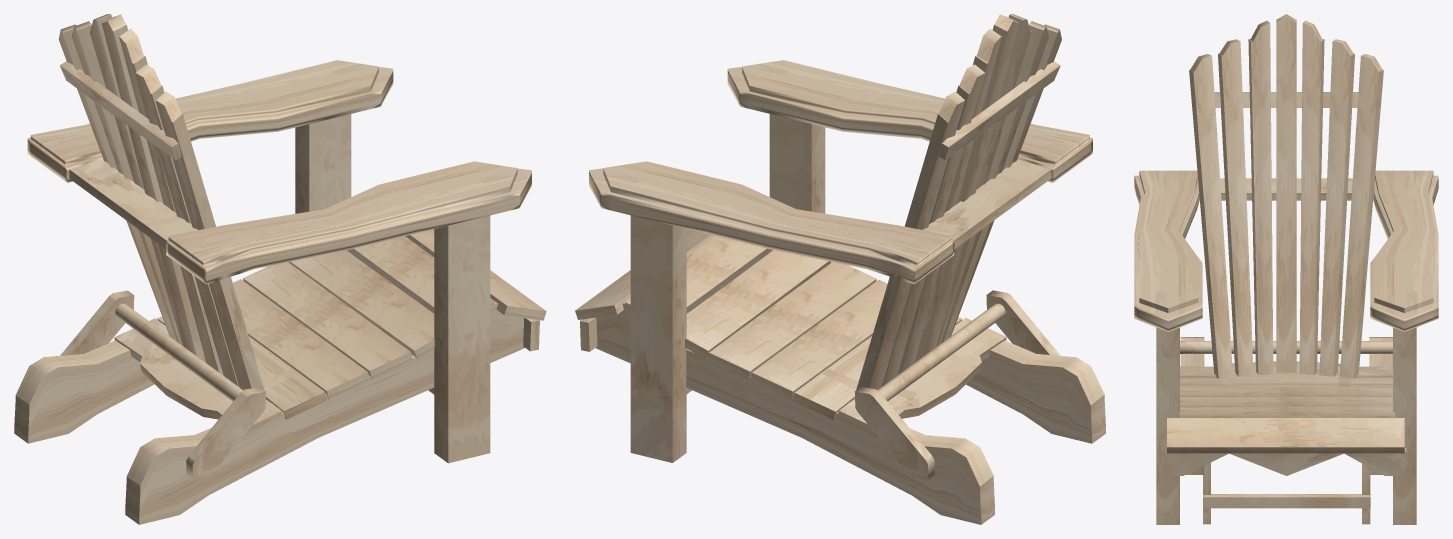
The model's file is Adirondack Chair.fbx.
3 views of the same model, side by side, from view 1: azimuth 30°, elevation 25°; view 2: azimuth 150°, elevation 25°; view 3: azimuth 270°, elevation 25° (orthographic). The views are drawn at different scales.
Parts seen in each view (by area): view 1: pCube18, pCube4, pCube1, pCube3, pCube22, pCube8, pCube7, pCube21, pCube12, pCube20, pCube25, pCube2 (+8 smaller); view 2: pCube18, pCube3, pCube2, pCube4, pCube22, pCube8, pCube7, pCube21, pCube12, pCube20, pCube25, pCube1 (+8 smaller); view 3: pCube18, pCube21, pCube20, pCube22, pCube5, pCube19, pCube2, pCube1, pCube17, pCube13, pCube11, pCube6 (+11 smaller).
Part boxes in pixels (box(x1,y1,x2,y2)): pCube18: box(27, 60, 531, 284); pCube4: box(125, 298, 524, 524); pCube1: box(434, 215, 490, 463); pCube3: box(14, 250, 374, 443); pCube22: box(58, 24, 264, 390); pCube8: box(243, 262, 412, 379); pCube7: box(288, 250, 434, 358); pCube21: box(71, 21, 238, 386); pCube12: box(233, 279, 369, 399); pCube20: box(89, 14, 223, 375); pCube25: box(60, 290, 265, 480); pCube2: box(295, 114, 351, 213); pCube18: box(589, 60, 1092, 284); pCube3: box(596, 298, 994, 524); pCube2: box(630, 215, 686, 462); pCube4: box(966, 340, 1105, 443); pCube22: box(856, 24, 1061, 389); pCube8: box(707, 262, 876, 379); pCube7: box(685, 250, 831, 358); pCube21: box(881, 21, 1049, 386); pCube12: box(750, 280, 887, 399); pCube20: box(897, 14, 1031, 375); pCube25: box(855, 290, 1060, 480); pCube1: box(769, 114, 825, 213); pCube18: box(1134, 170, 1438, 331); pCube21: box(1218, 39, 1354, 376); pCube20: box(1248, 20, 1324, 374); pCube22: box(1189, 54, 1383, 378); pCube5: box(1167, 418, 1404, 453); pCube19: box(1276, 14, 1296, 372); pCube2: box(1393, 327, 1416, 524); pCube1: box(1156, 327, 1179, 524); pCube17: box(1168, 448, 1406, 475); pCube13: box(1180, 372, 1392, 387); pCube11: box(1203, 494, 1370, 508); pCube6: box(1179, 407, 1395, 417).
Size of the model in its own units: 16.61 by 18.05 by 12.88.
Materials: 1 (1 with a texture image).
